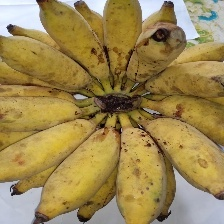banana: (13, 22, 167, 218)
